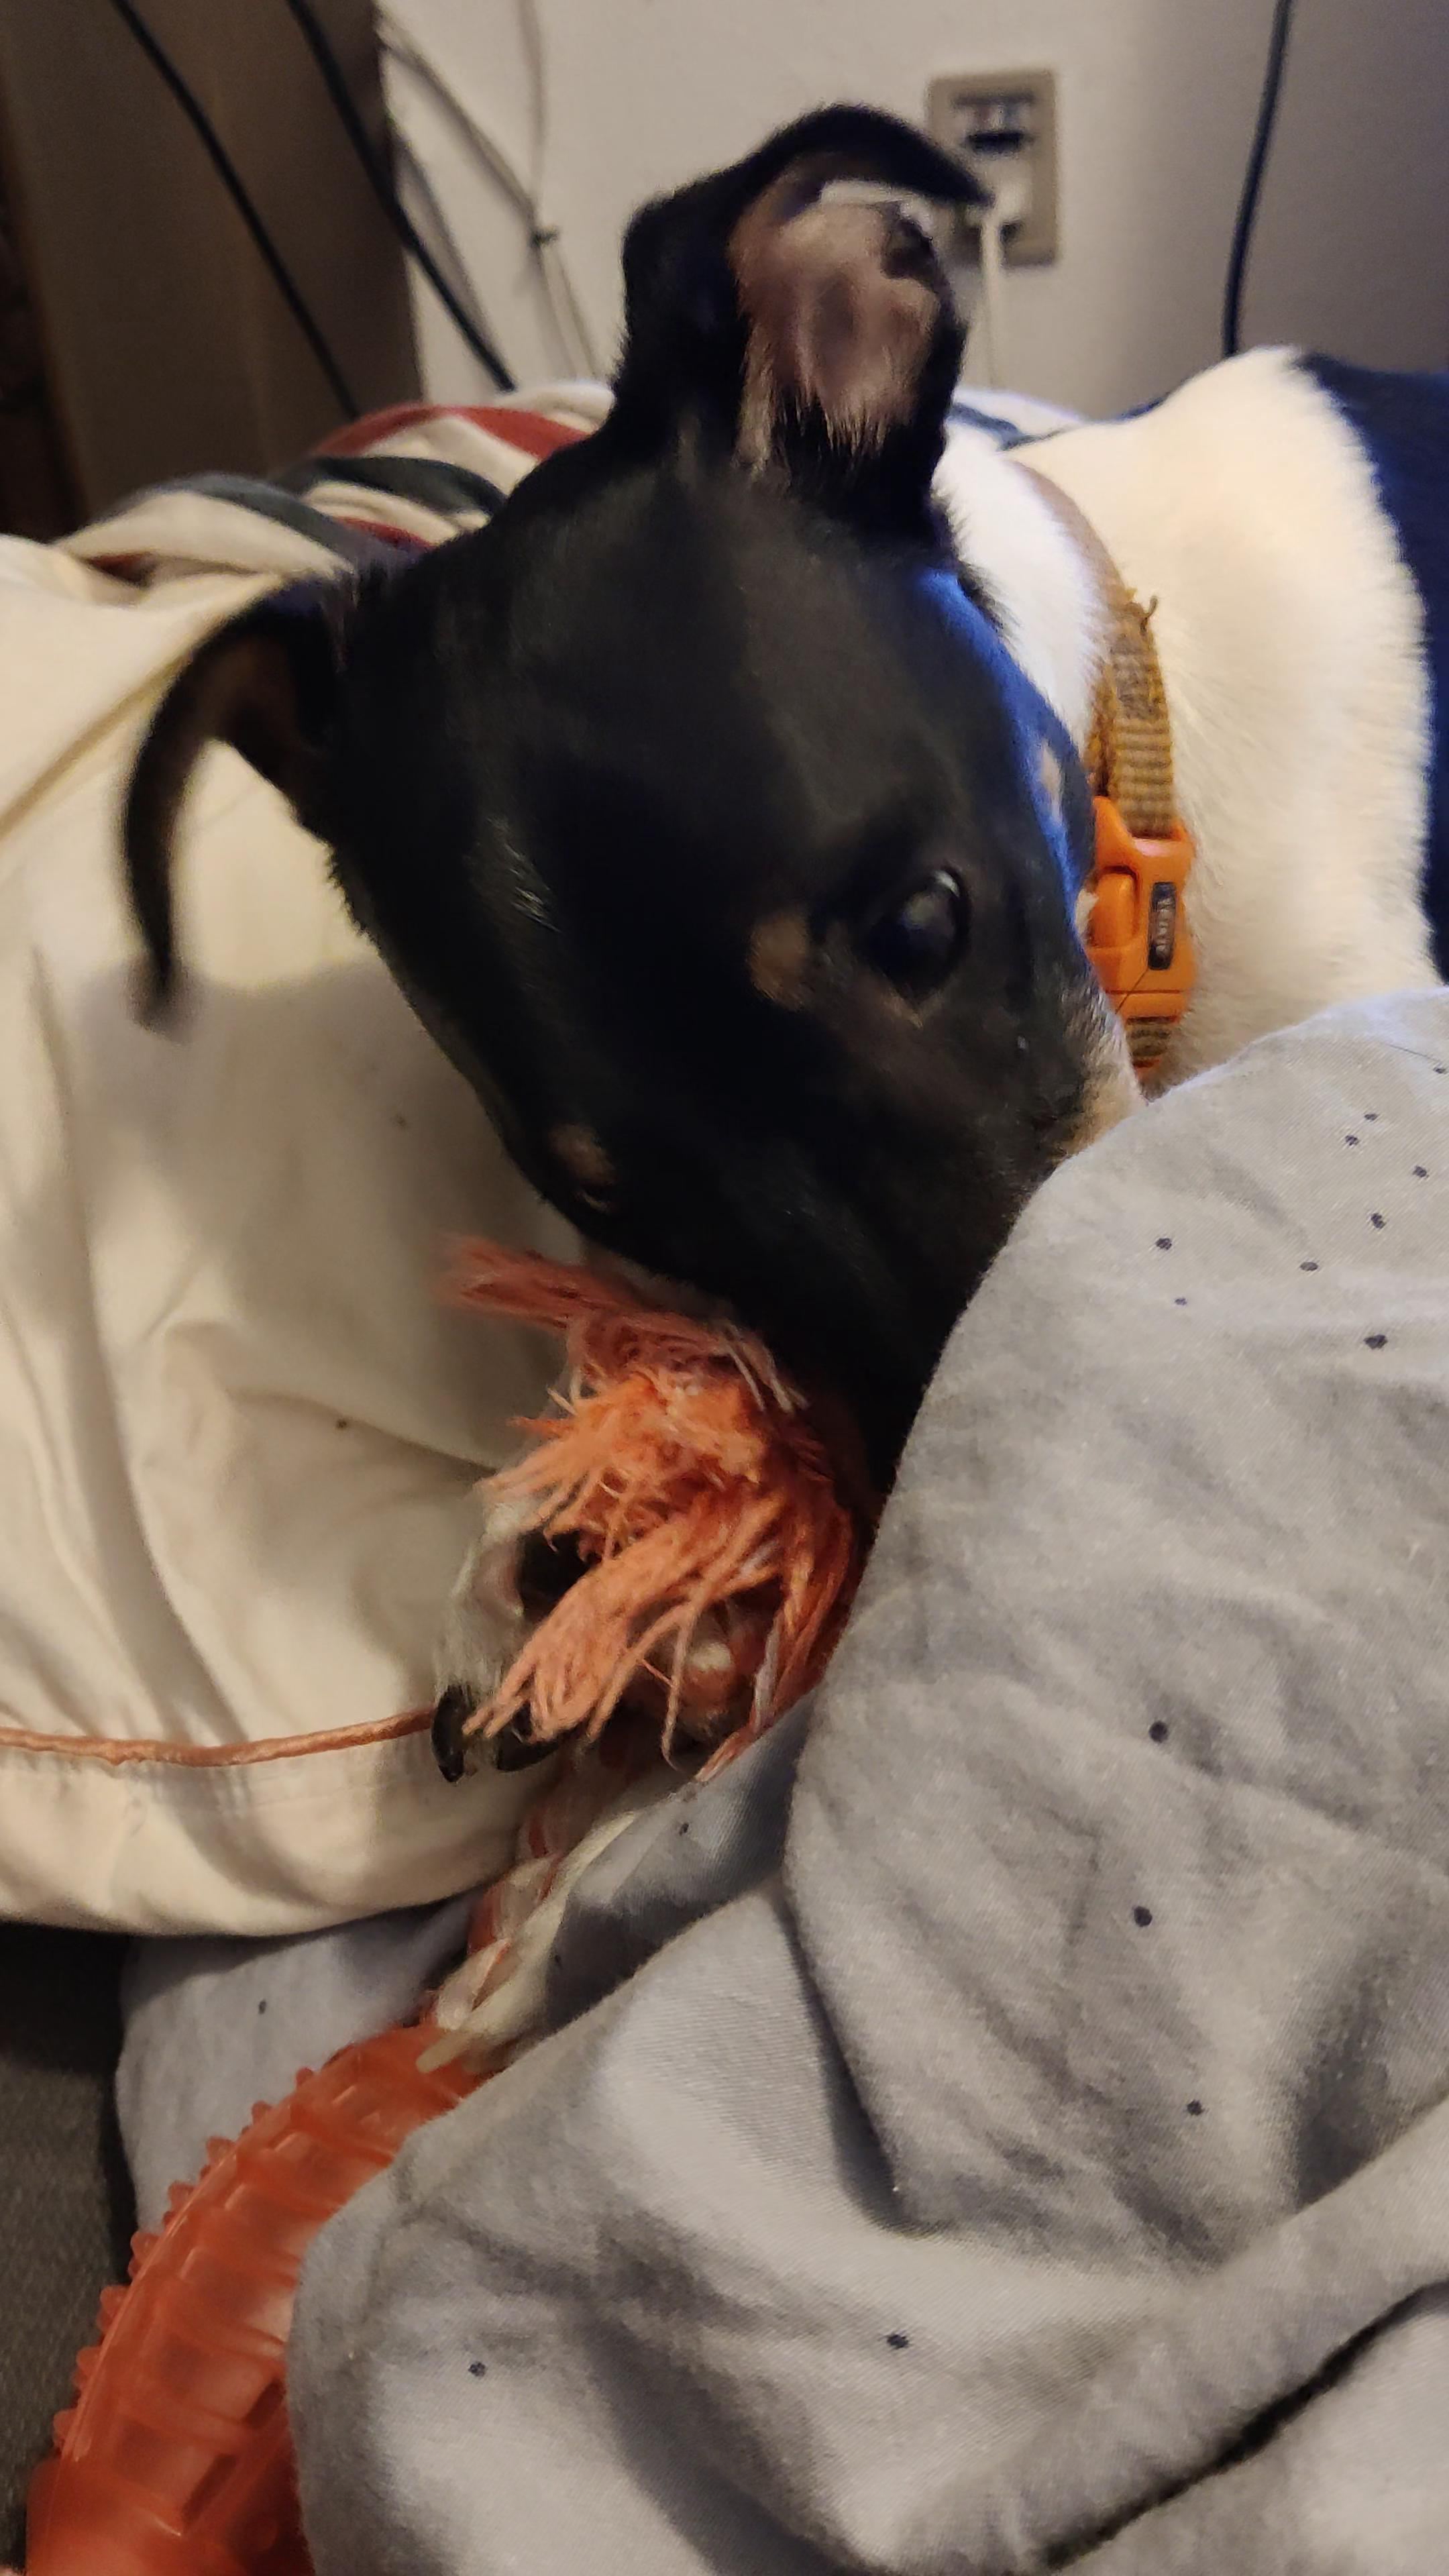Dog: (106, 78, 1449, 2123)
